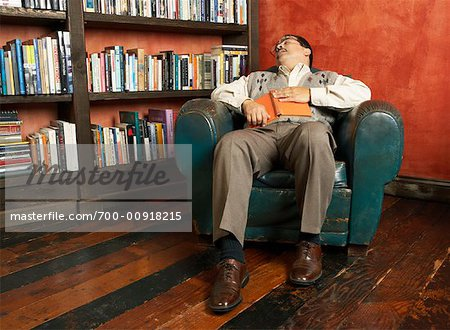chairs: (175, 67, 404, 265)
